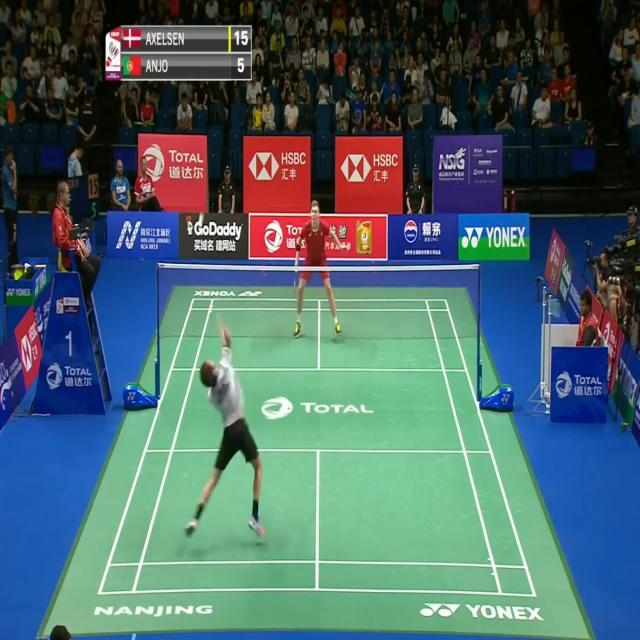Player1: (178, 308, 268, 546)
Player2: (291, 193, 347, 346)
